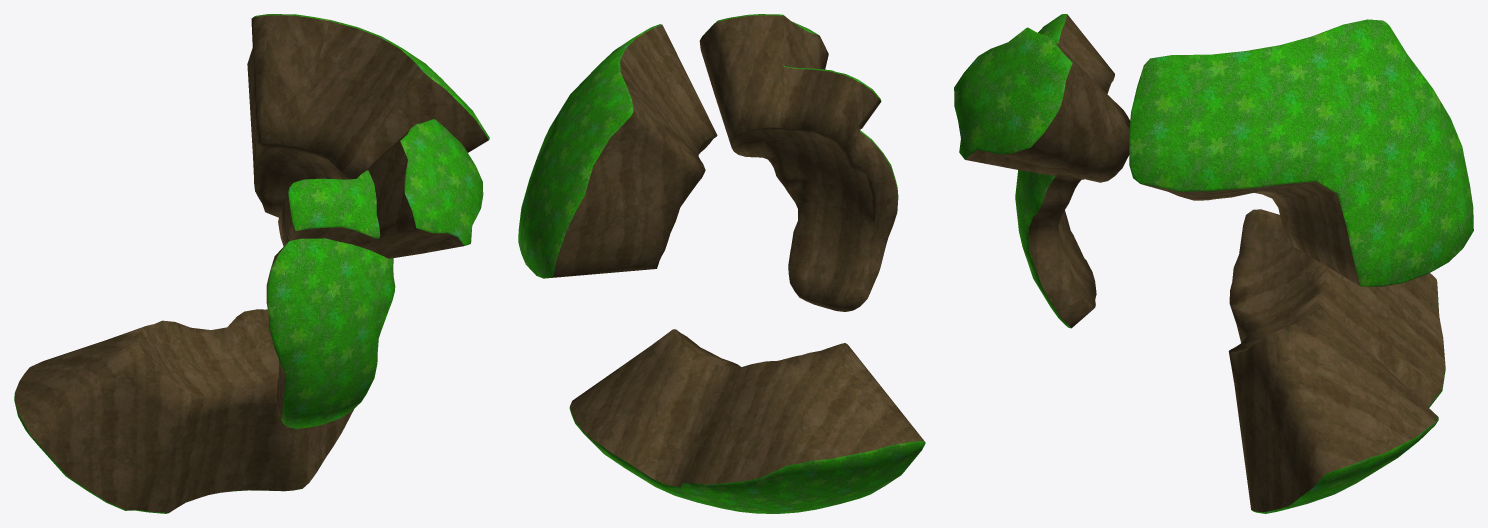
The model's file is HikeGardenTicoHungerPlanet.fbx.
3 views of the same model, side by side, from view 1: azimuth 30°, elevation 25°; view 2: azimuth 150°, elevation 25°; view 3: azimuth 270°, elevation 25° (orthographic). The views are drawn at different scales.
Visible parts, largest first — view 1: Sphere.001, Sphere.000; view 2: Sphere.001, Sphere.000; view 3: Sphere.000, Sphere.001.
Boxes of the visible parts, x1,y1,x2,y2 form: Sphere.001: [15, 15, 488, 512]; Sphere.000: [14, 14, 489, 513]; Sphere.001: [547, 15, 924, 487]; Sphere.000: [518, 14, 925, 513]; Sphere.000: [954, 14, 1473, 513]; Sphere.001: [965, 14, 1445, 512].
Bounding box in the file's own units: 868072 × 896332 × 830643.
2 materials, 2 textured.
